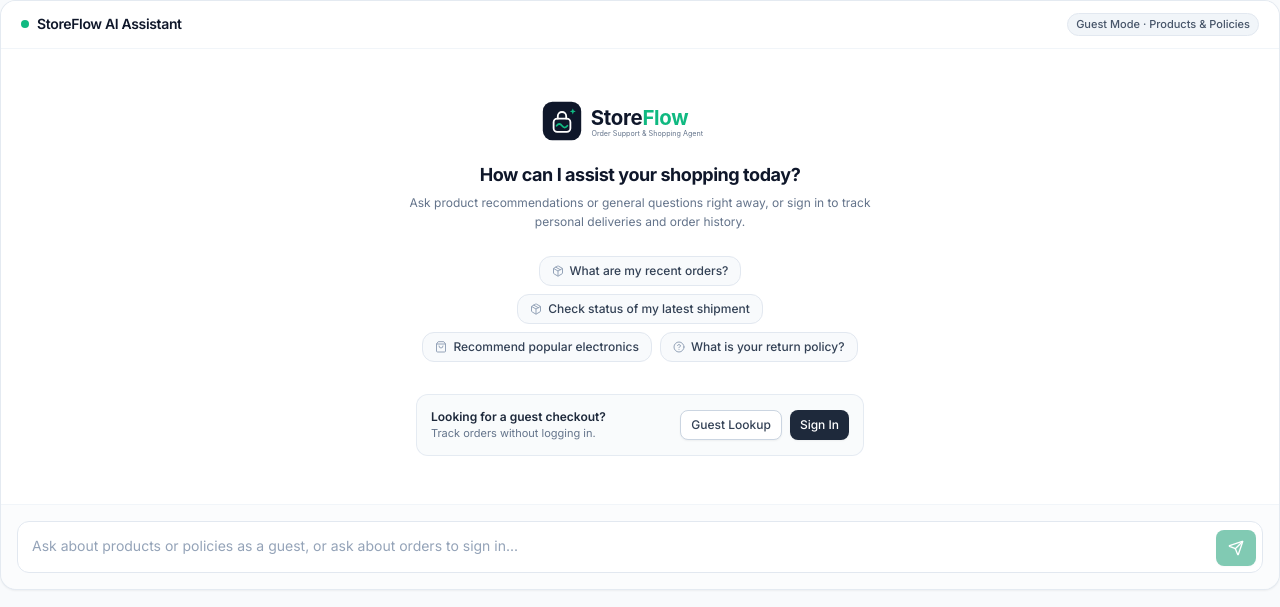
Test: Phase 5: ChatContainer & Guest Question / Login Replay Flows › allows unauthenticated guests to ask public shopping and policy questions directly
Click the button "Recommend popular electronics": coordinates (537, 346) [422,332,652,362]
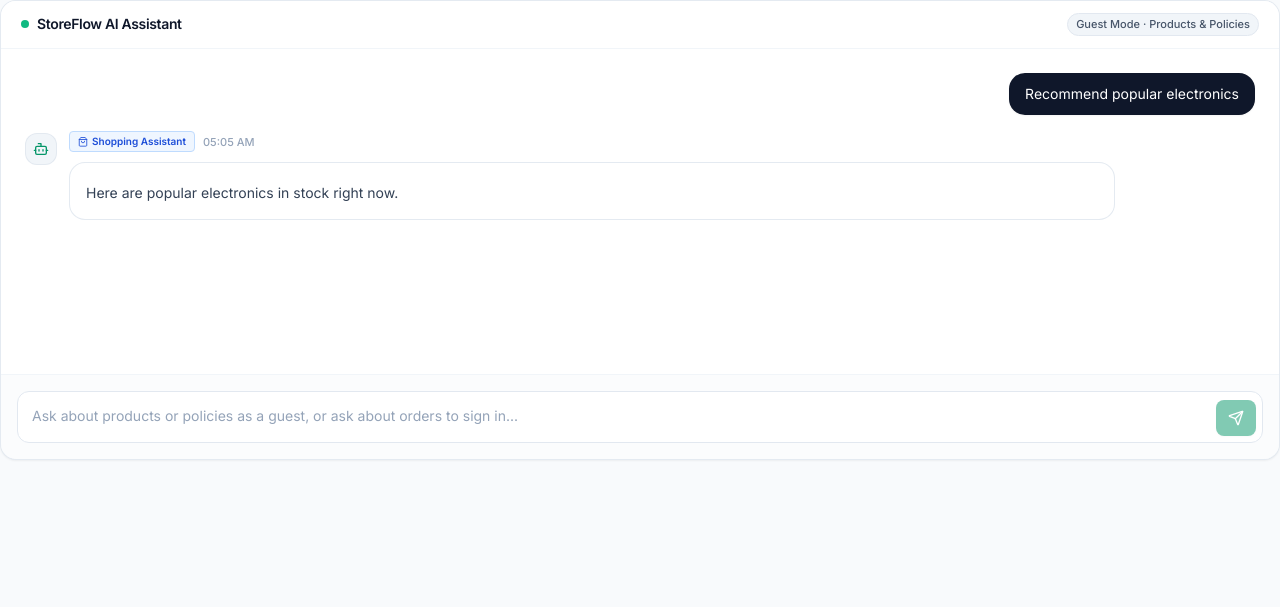
Expected: the text "Here are popular electronics in stock right now." is shown, [86,184,398,201]
